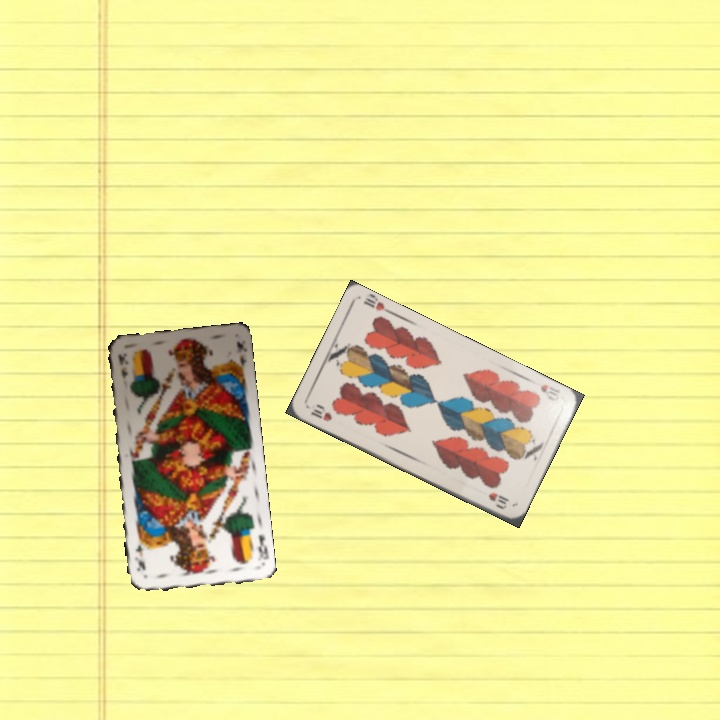EK: (253, 531, 270, 563), (114, 350, 129, 381)
H10: (536, 380, 563, 404), (307, 401, 335, 424)
